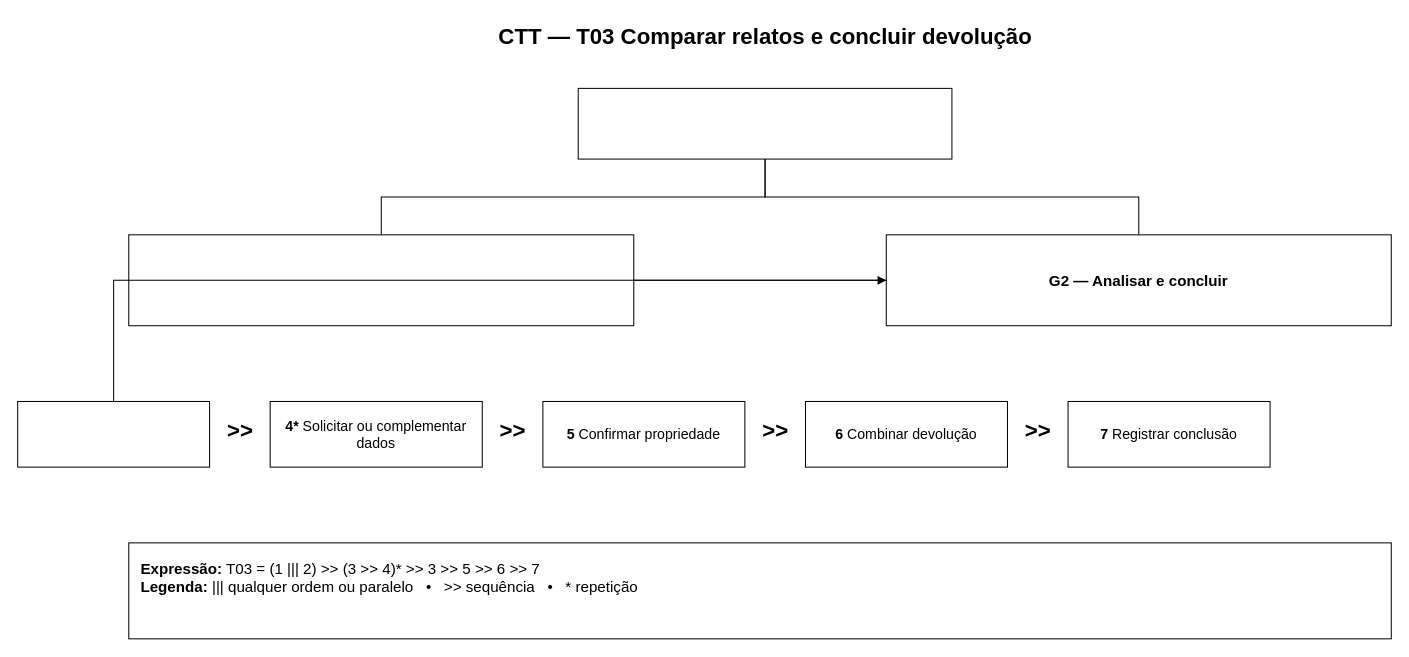
This 1409x657 diagram has some shape labels left out. The centre of each missing label's shape, as x and y in pixels:
3 Comparar informações: (113,433)
G1 — Produzir registros 1 Registrar perda ||| 2 Registrar achado: (381,280)
T03 Comparar relatos e concluir devolução: (764,123)
